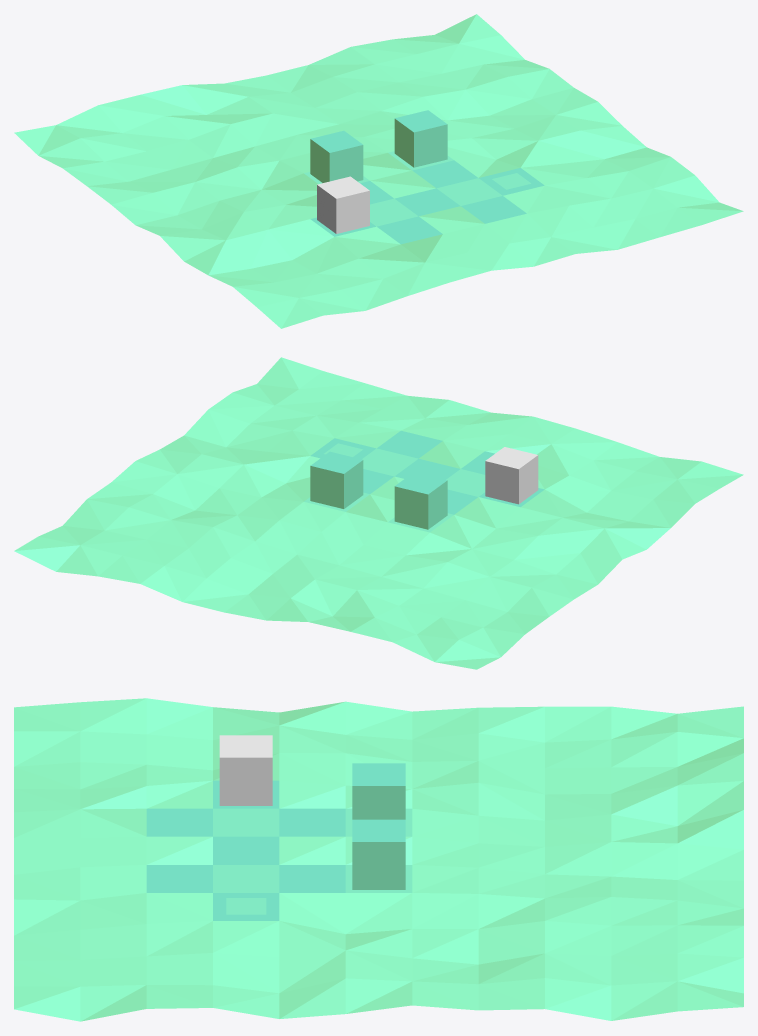
The model's file is Level65.dae.
The picture shows the model from 3 angles, top to bottom: view 1: azimuth 30°, elevation 25°; view 2: azimuth 150°, elevation 25°; view 3: azimuth 270°, elevation 25°; orthographic projection. The views are drawn at different scales.
Parts seen in each view (by area): view 1: surface, Enemy1, Blocky, Enemy0; view 2: surface, Blocky, Enemy1, Enemy0; view 3: surface, Blocky, Enemy1, Enemy0.
Part boxes in pixels (x1,y1,x2,y2): surface: (14,14,743,328); Enemy1: (394,110,447,167); Blocky: (317,176,369,233); Enemy0: (310,130,363,182); surface: (14,357,743,669); Blocky: (485,447,538,504); Enemy1: (310,451,363,508); Enemy0: (394,472,447,529); surface: (14,698,743,1021); Blocky: (219,735,272,805); Enemy1: (352,819,405,889); Enemy0: (352,763,405,819).
Size of the model in its own units: 11 by 11 by 1.1.
